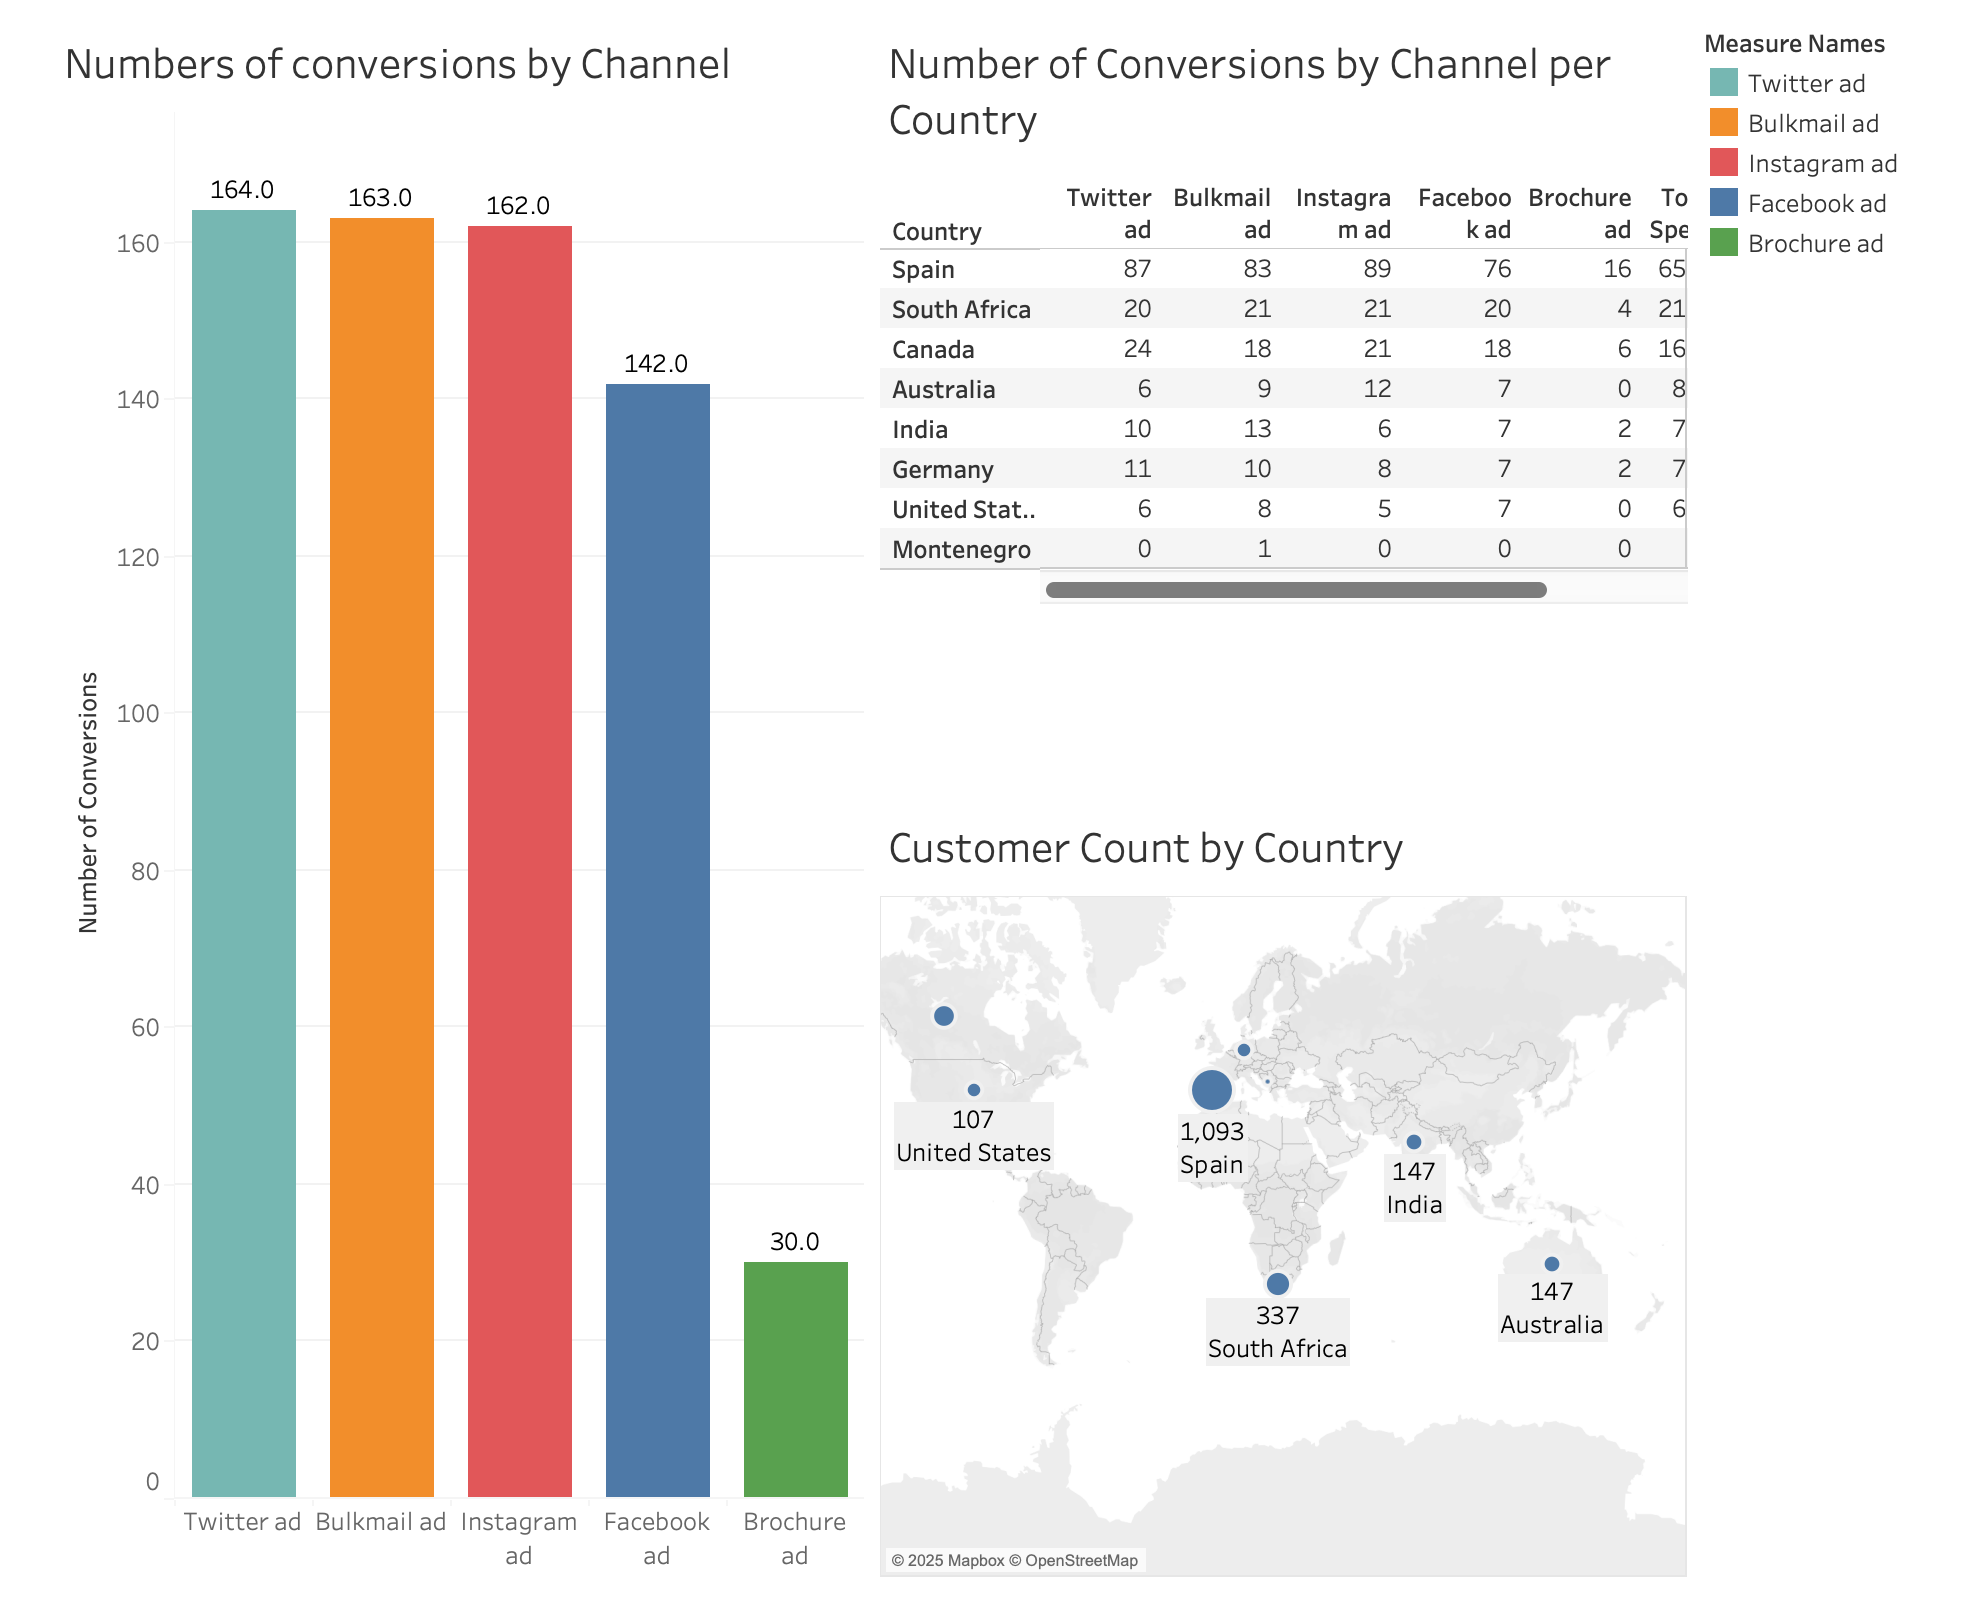

The page's visual inventory and layout, read from the dashboard file:
{"tool":"tableau","page":{"name":"Dashboard 2","canvas":[1000,800],"ordinal":1},"visuals":[{"type":"worksheet","title":"CHANNEL: Ad Channel Effectiveness","mark":"Automatic","box":[8,8,412,784]},{"type":"worksheet","title":"CHANNEL: Ad Channel Effectiveness by Country","mark":"Automatic","rows":["Country"],"box":[420,8,412,392]},{"type":"legend","title":"CHANNEL: Ad Channel Effectiveness","param":"[federated.192lffs1fjj68116wwcih0xkg2n9].[:Measure Names]","box":[832,8,160,126]},{"type":"worksheet","title":"DEMOGRAPHIC: Customer Count by Country","mark":"Automatic","box":[420,400,412,392]}]}

Visuals, with their boxes in screenshot pixels (x1, y1, x2, y2), scaled from the page's 1000x800 canvas onto the 1982x1604 screenshot:
"CHANNEL: Ad Channel Effectiveness" worksheet: box(16, 16, 832, 1588)
"CHANNEL: Ad Channel Effectiveness by Country" worksheet: box(832, 16, 1649, 802)
"CHANNEL: Ad Channel Effectiveness" legend: box(1649, 16, 1966, 269)
"DEMOGRAPHIC: Customer Count by Country" worksheet: box(832, 802, 1649, 1588)
